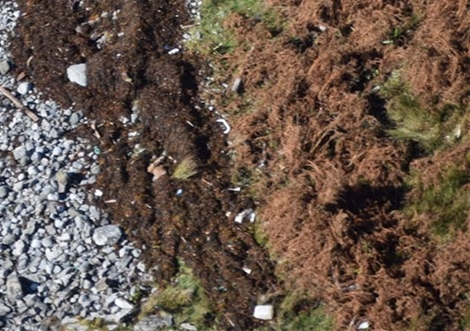scattered_barrel: (223, 203, 291, 329), (117, 105, 176, 184), (169, 181, 261, 229)
straight_bar: (1, 83, 40, 124)
white_in_green: (48, 49, 107, 100), (242, 289, 286, 330), (202, 105, 242, 143), (156, 34, 190, 69)
